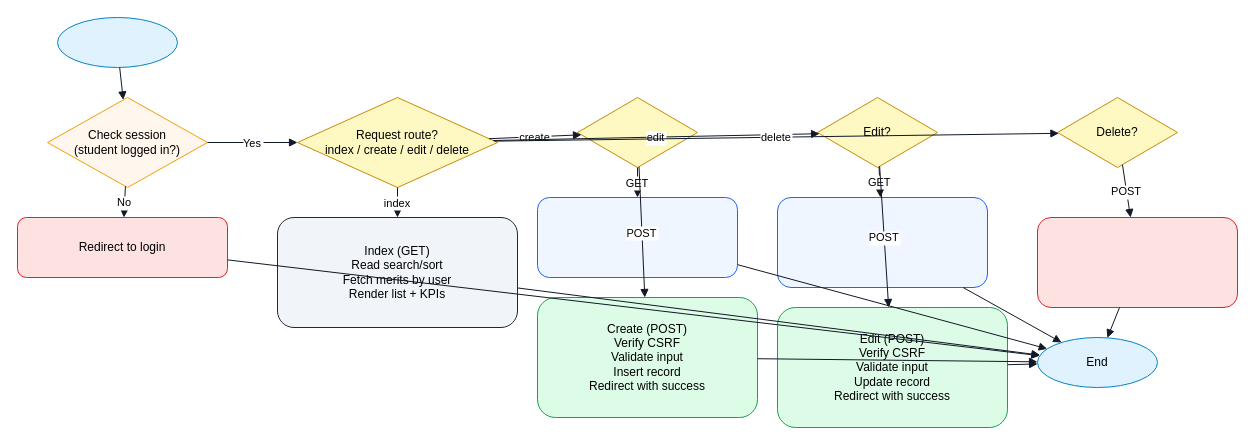
Image size: 1255x445. Some labels were removed from this diagram. Each missing label, with the centre of its shape:
"Create form (GET) Render form" belongs at (x=637, y=237).
"Create?" belongs at (x=637, y=132).
"Delete (POST) Verify CSRF Delete record Redirect with success" belongs at (x=1137, y=262).
"Edit form (GET) Load record by ID Render form" belongs at (x=882, y=242).
"Start" belongs at (x=117, y=42).
